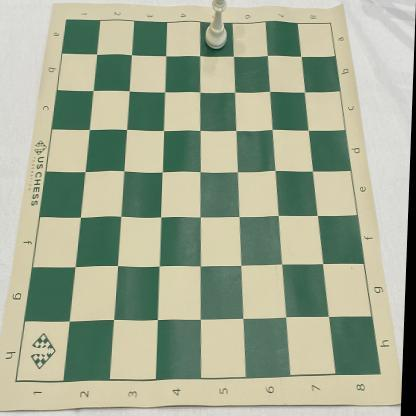white-queen: (205, 0, 229, 51)
